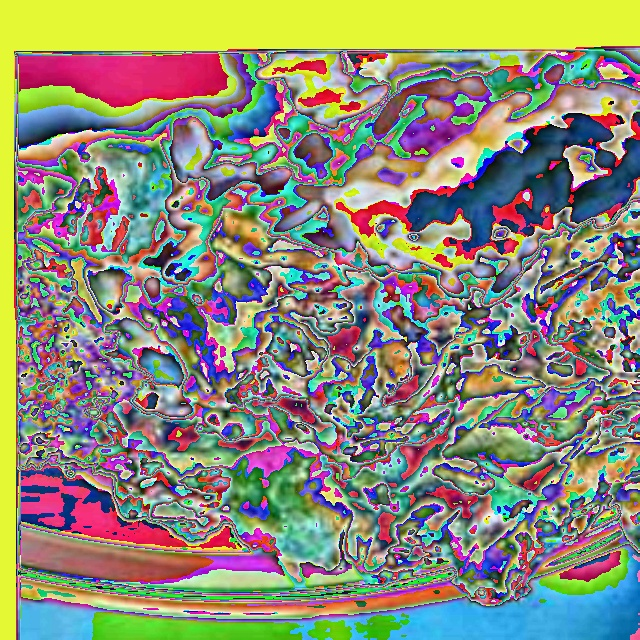background: (18, 50, 639, 609)
